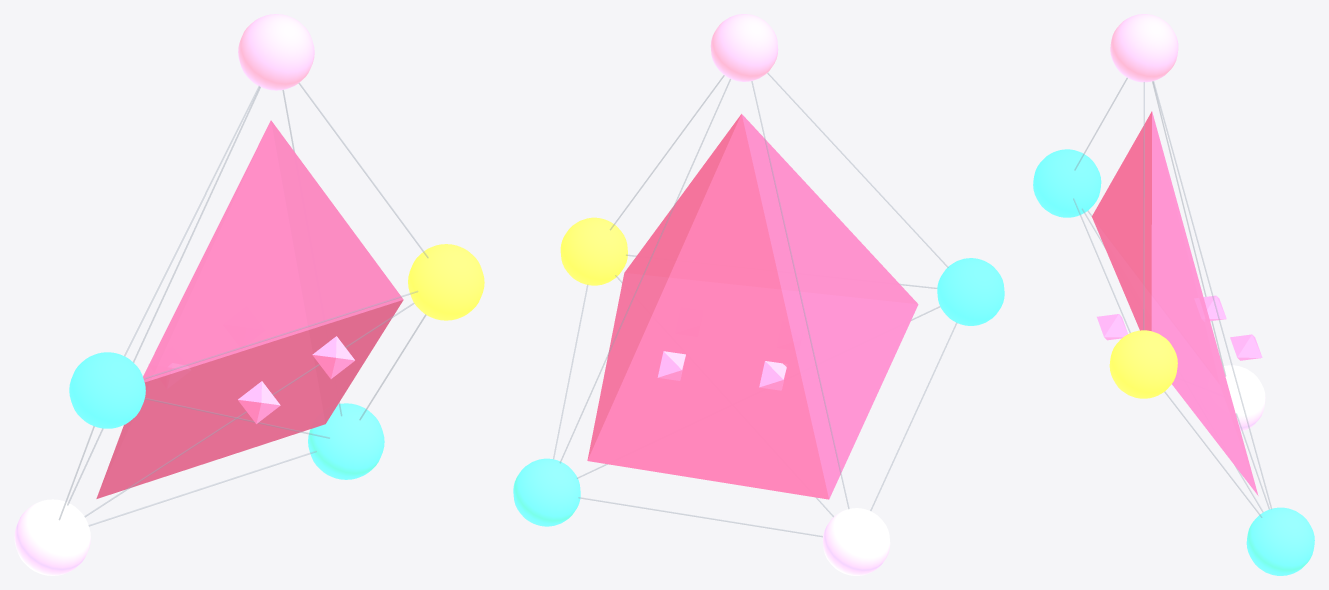
Rendered from pulse_em_core_matrix.glb.
3 renders of one model, left to right at view 1: azimuth 30°, elevation 25°; view 2: azimuth 150°, elevation 25°; view 3: azimuth 270°, elevation 25°, orthographic. The views are drawn at different scales.
Visible parts, largest first — view 1: object 1, node-recovery, node-autophagy, node-strain, node-longevity, node-fuel, object 18, object 17, object 10, object 8, object 16; view 2: object 1, node-strain, node-recovery, node-fuel, node-longevity, node-autophagy, object 9, object 10, object 20, object 19; view 3: object 1, node-recovery, node-strain, node-longevity, node-fuel, node-autophagy, object 9, object 20, object 18, object 10, object 7, object 19.
Part boxes in pixels (box(x1,y1,x2,y2)): object 1: box(96, 120, 403, 498); node-recovery: box(69, 352, 145, 428); node-autophagy: box(14, 499, 90, 575); node-strain: box(408, 244, 484, 320); node-longevity: box(238, 14, 314, 90); node-fuel: box(308, 403, 384, 479); object 18: box(238, 381, 280, 423); object 17: box(312, 336, 354, 378); object 10: box(67, 87, 260, 505); object 8: box(124, 86, 259, 355); object 16: box(84, 303, 414, 517); object 1: box(587, 114, 918, 499); node-strain: box(560, 217, 627, 285); node-recovery: box(937, 258, 1004, 325); node-fuel: box(513, 458, 580, 526); node-longevity: box(710, 14, 778, 81); node-autophagy: box(822, 508, 890, 575); object 9: box(559, 79, 730, 463); object 10: box(751, 81, 849, 508); object 20: box(657, 351, 685, 380); object 19: box(759, 361, 786, 390); object 1: box(1092, 111, 1258, 495); node-recovery: box(1033, 149, 1101, 217); node-strain: box(1109, 330, 1177, 398); node-longevity: box(1110, 14, 1178, 82); node-fuel: box(1246, 507, 1314, 575); node-autophagy: box(1223, 365, 1265, 431); object 9: box(1153, 81, 1271, 508); object 20: box(1230, 334, 1262, 360); object 18: box(1097, 314, 1127, 340); object 10: box(1152, 81, 1225, 376); object 7: box(1143, 82, 1144, 329); object 19: box(1203, 295, 1226, 321).
Size of what is drawn, in the model's own units: 3.78 by 4.44 by 2.3.
